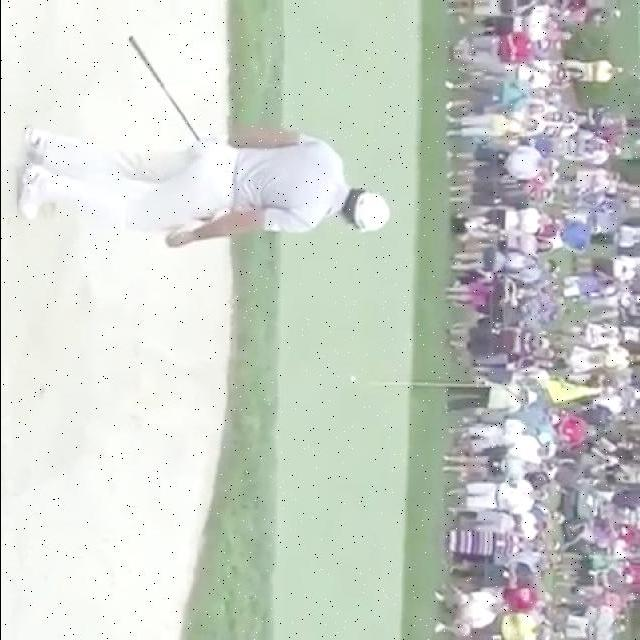golf ball: (350, 376, 356, 382)
golf club-handle: (126, 36, 199, 141)
